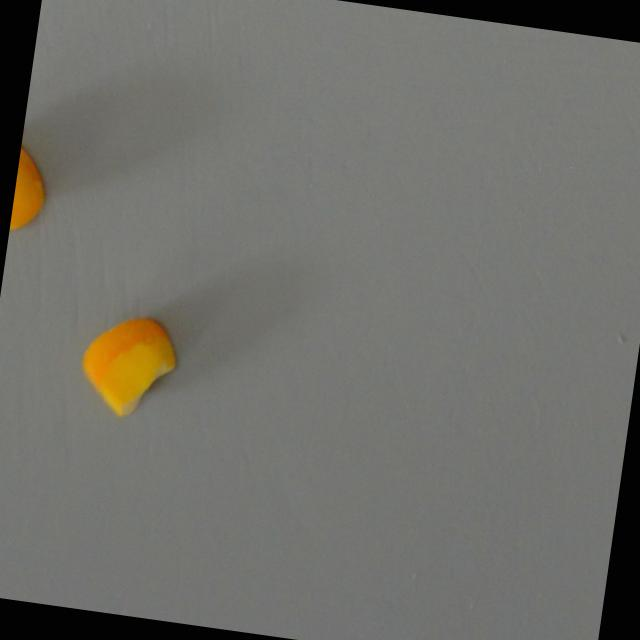no_canjicado: (74, 308, 181, 423)
pelicula: (8, 133, 53, 243)
